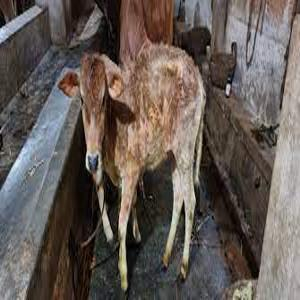lumpy skin diesease: (57, 0, 207, 292)
